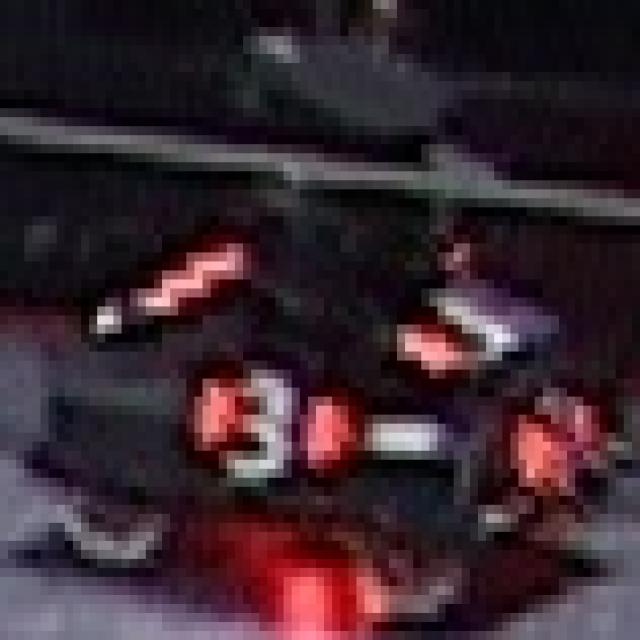R3: (178, 352, 332, 486)
